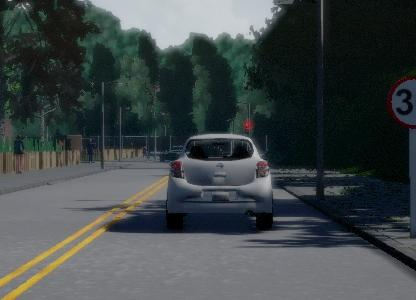Speed_30: (385, 71, 416, 130)
